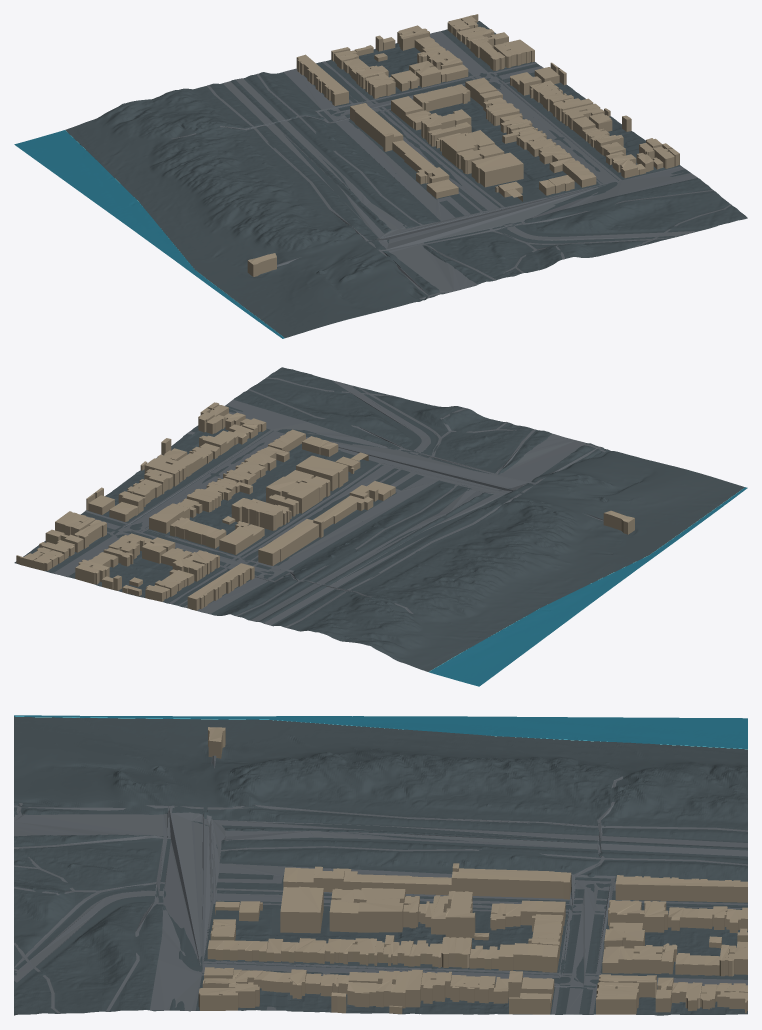
Rendered from epsg26910-1414-10884.lod0.glb.
The picture shows the model from 3 angles, top to bottom: view 1: azimuth 30°, elevation 25°; view 2: azimuth 150°, elevation 25°; view 3: azimuth 270°, elevation 25°; orthographic projection. The views are drawn at different scales.
Visible parts, largest first — view 1: epsg26910-1414-10884-lod0; view 2: epsg26910-1414-10884-lod0; view 3: epsg26910-1414-10884-lod0.
Part boxes in pixels (x1=…): epsg26910-1414-10884-lod0: x1=14, y1=14, x2=747, y2=338; epsg26910-1414-10884-lod0: x1=14, y1=367, x2=747, y2=686; epsg26910-1414-10884-lod0: x1=14, y1=715, x2=747, y2=1015.
Size of the model in its own units: 384 by 20.02 by 384.
